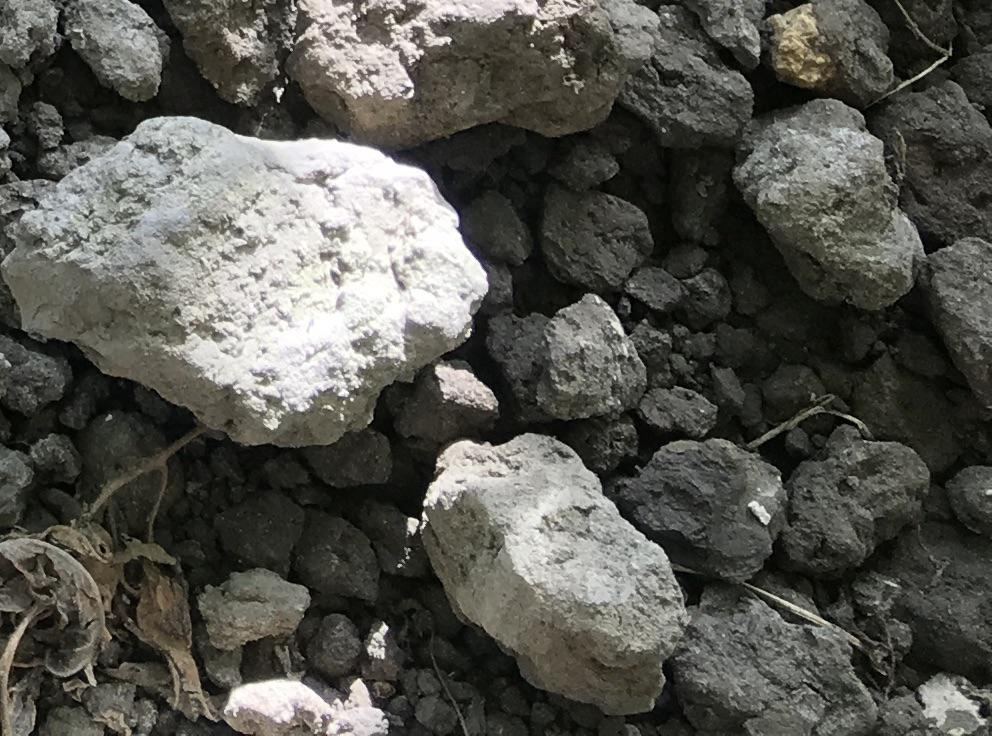block: (2, 114, 489, 449), (413, 436, 680, 719), (286, 1, 629, 146), (731, 95, 928, 312)
